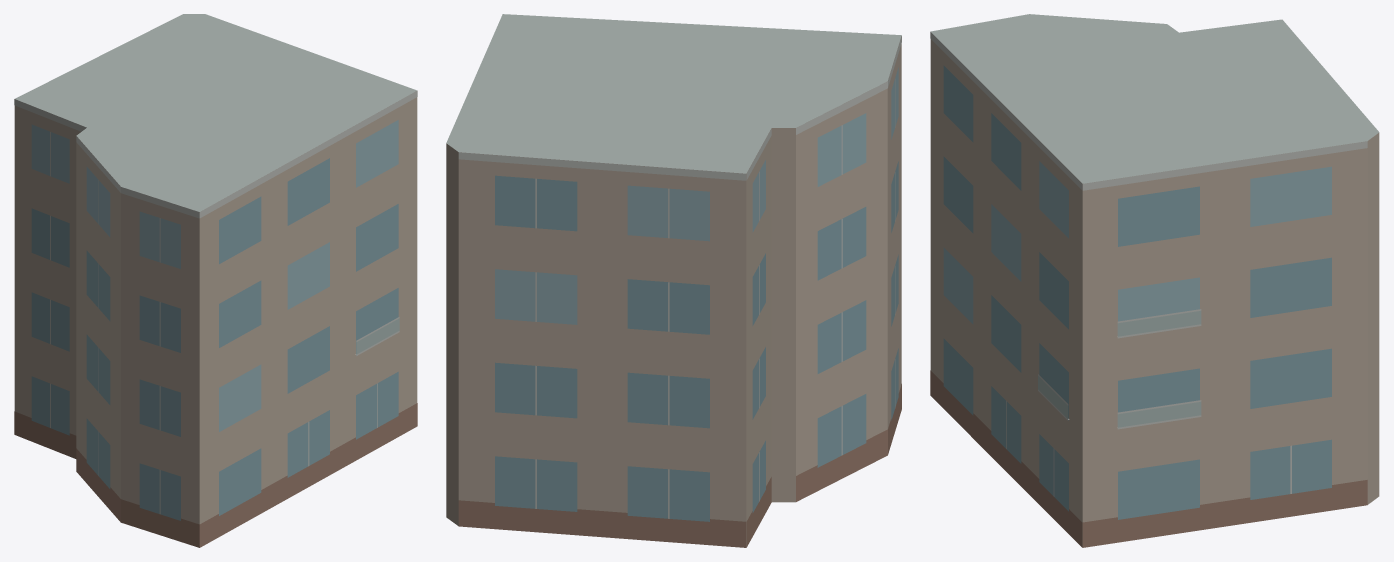
File: survey-upis-32932354.glb
3 renders of one model, left to right at view 1: azimuth 30°, elevation 25°; view 2: azimuth 150°, elevation 25°; view 3: azimuth 270°, elevation 25°, orthographic. The views are drawn at different scales.
Visible parts, largest first — view 1: survey-upis-32932354.tmp; view 2: survey-upis-32932354.tmp; view 3: survey-upis-32932354.tmp.
Part boxes in pixels (box(x1,y1,x2,y2)): survey-upis-32932354.tmp: box(14, 14, 417, 547); survey-upis-32932354.tmp: box(446, 14, 901, 547); survey-upis-32932354.tmp: box(930, 14, 1379, 547).
Bounding box in the file's own units: 12.82 × 12.8 × 14.32.
